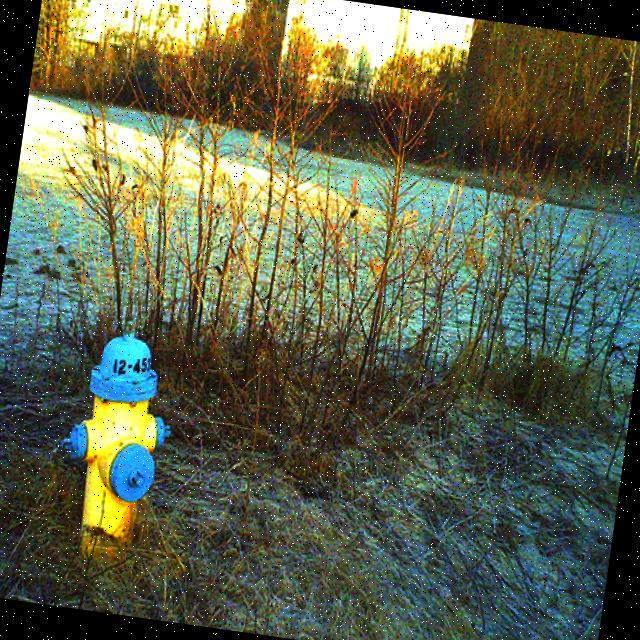fire_hydrant: (44, 312, 188, 568)
